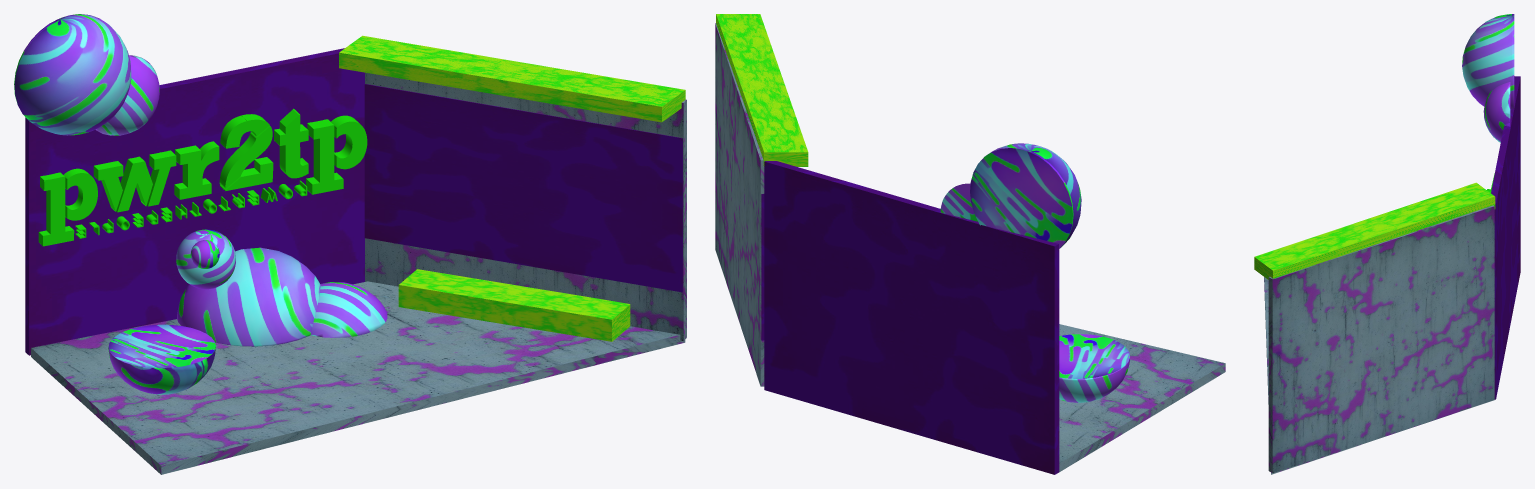
Rendered from booth8.glb.
3 renders of one model, left to right at view 1: azimuth 30°, elevation 25°; view 2: azimuth 150°, elevation 25°; view 3: azimuth 270°, elevation 25°, orthographic. The views are drawn at different scales.
Parts seen in each view (by area): view 1: Cube.001_5, Cube.004_15, Cube_4, Curve.023, Cube.003_6, Cube.005_16, Sphere_8, Sphere.004_12, Cube.002_7, Object_31, Sphere.005_13, Sphere.001_9 (+2 smaller); view 2: Cube.001_5, Cube.003_6, Cube_4, Sphere_8, Cube.005_16, Object_31, Sphere.001_9, Cube.004_15; view 3: Cube.003_6, Cube.005_16, Cube.001_5, Sphere_8, Sphere.001_9, Cube_4.
Part boxes in pixels (x1,y1,x2,y2): Cube.001_5: (25,48,364,355); Cube.004_15: (364,84,682,292); Cube_4: (31,281,685,474); Curve.023: (38,108,367,246); Cube.003_6: (365,72,686,340); Cube.005_16: (339,35,685,122); Sphere_8: (14,14,131,135); Sphere.004_12: (177,247,320,346); Cube.002_7: (398,269,630,341); Object_31: (108,324,215,394); Sphere.005_13: (310,282,387,337); Sphere.001_9: (95,55,159,135); Cube.001_5: (764,161,1059,474); Cube.003_6: (715,23,764,386); Cube_4: (1059,324,1225,472); Sphere_8: (970,143,1081,248); Cube.005_16: (716,14,808,166); Object_31: (1059,334,1129,402); Sphere.001_9: (940,183,977,221); Cube.004_15: (761,194,764,340); Cube.003_6: (1268,205,1494,472); Cube.005_16: (1254,182,1495,279); Cube.001_5: (1491,76,1520,399); Sphere_8: (1462,14,1514,109); Sphere.001_9: (1483,82,1510,142); Cube_4: (1264,277,1451,474).
Size of the model in its own units: 6.4 by 3.82 by 3.41.
6 materials, 4 textured.
